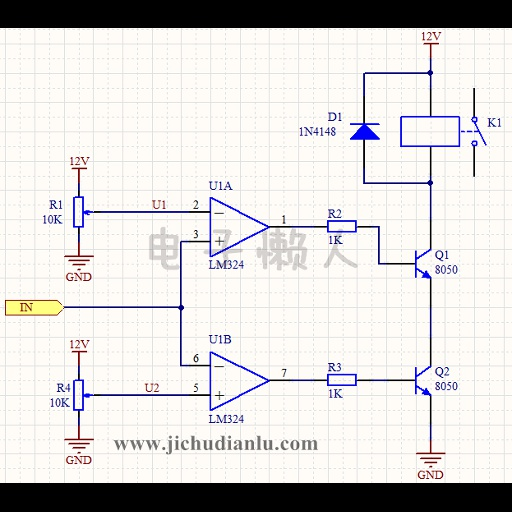amplifier: (207, 347, 274, 413), (207, 195, 272, 259)
firstdiode: (348, 120, 382, 145)
firstresistance: (322, 218, 363, 235), (324, 372, 361, 388)
gnd: (413, 449, 449, 468), (60, 437, 97, 454), (61, 253, 97, 270)
npn: (409, 243, 435, 285), (409, 359, 434, 401)
